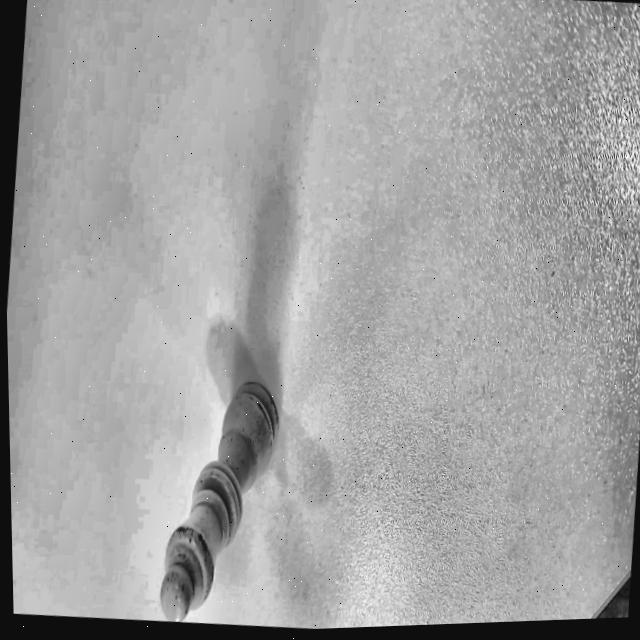white-queen: (132, 339, 305, 632)
